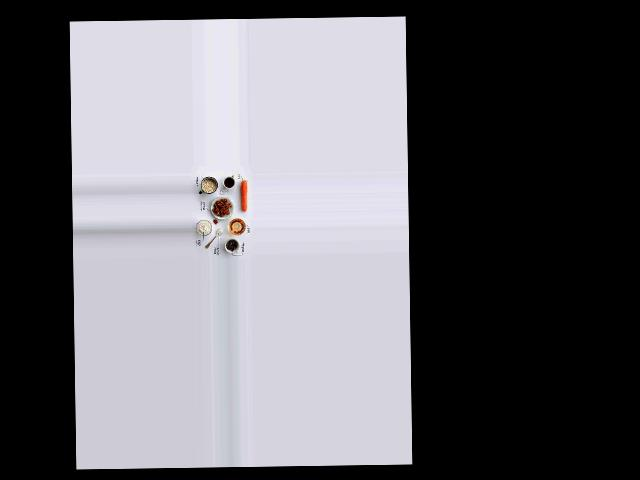carrot: (236, 177, 249, 215)
